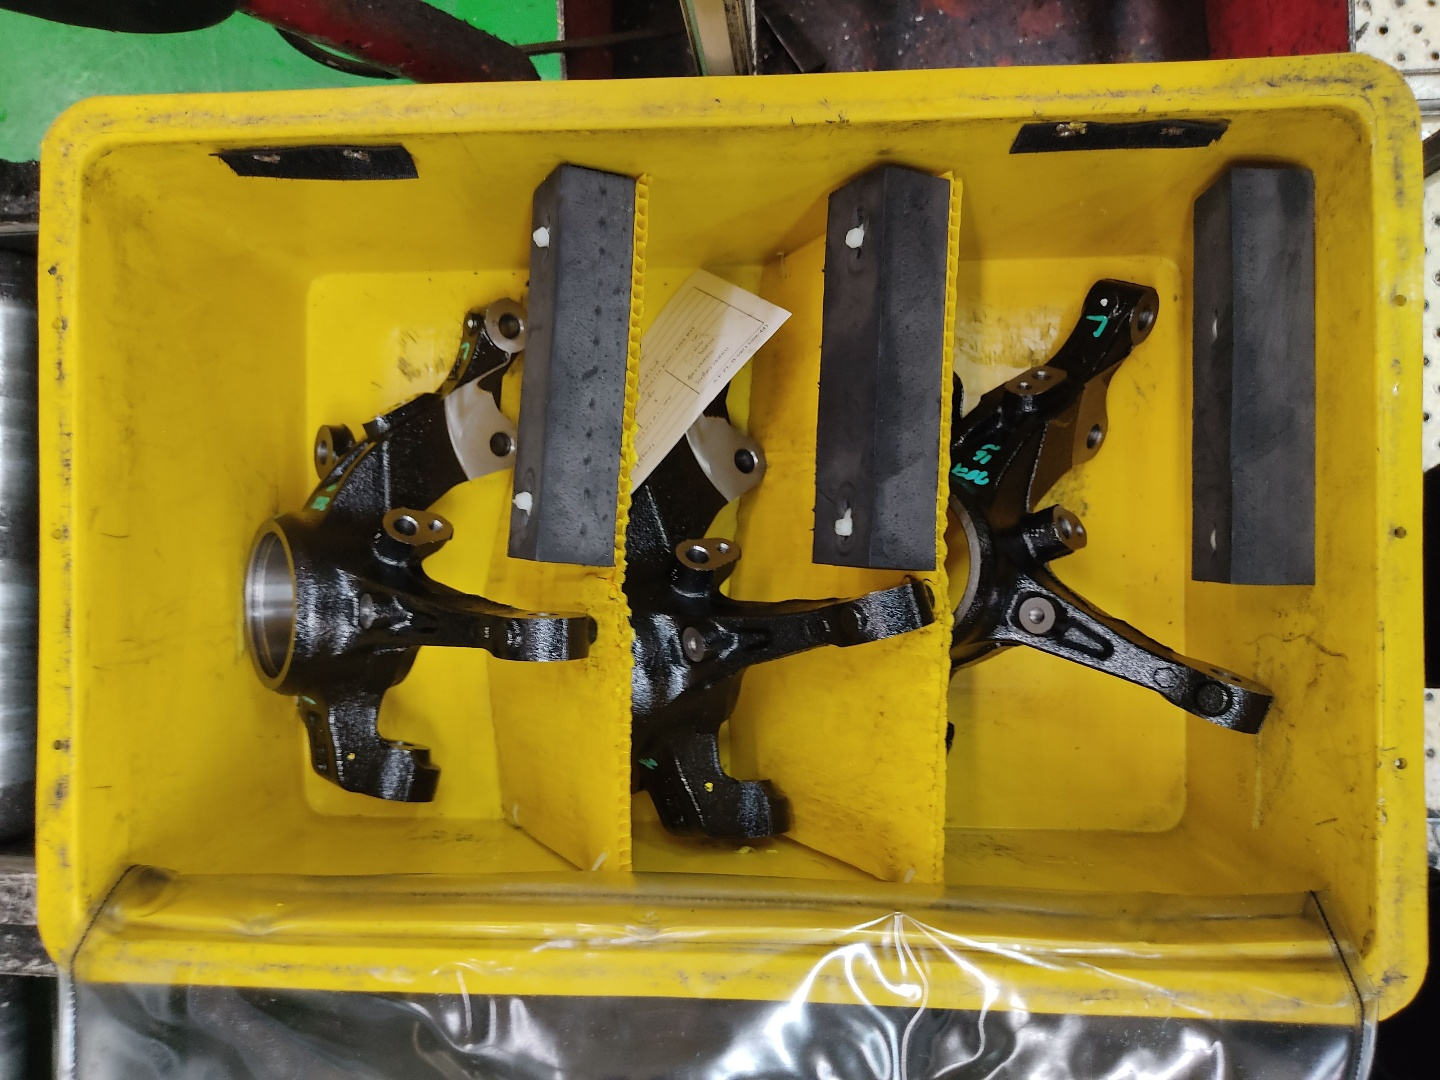abs-lh: (226, 285, 603, 820), (611, 318, 940, 857), (939, 264, 1282, 774)
